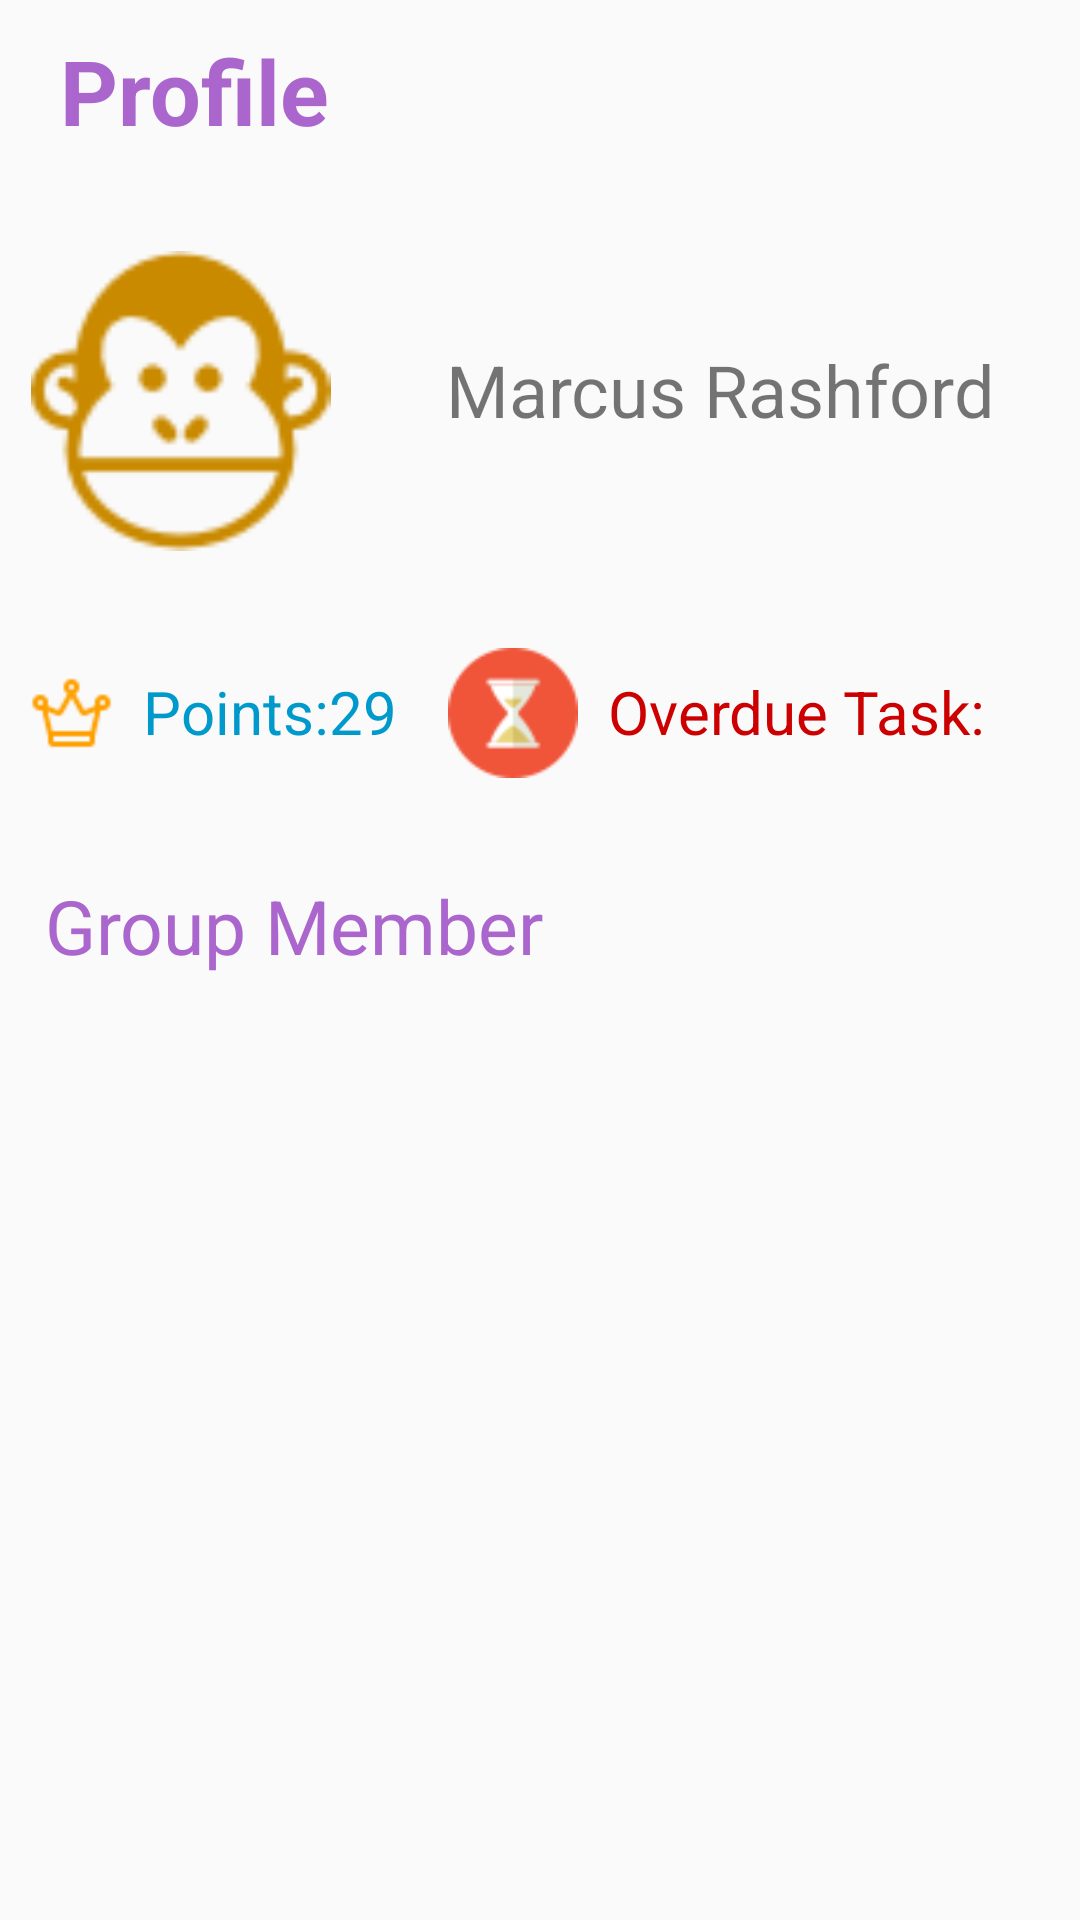

Where icons sit on this 1080×1920 app screen, as (x1, y1, x2, y2):
crown: (32, 678, 111, 748)
monkey: (31, 251, 331, 551)
